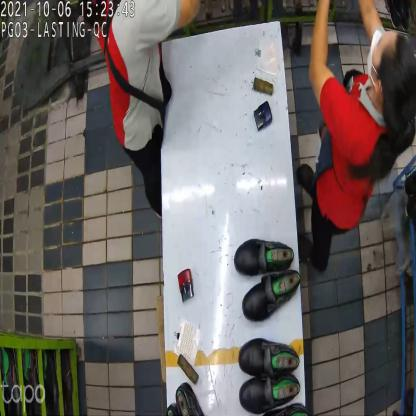shoes: (241, 334, 298, 415), (235, 241, 296, 316)
stamp: (252, 102, 270, 132), (178, 271, 194, 303)
